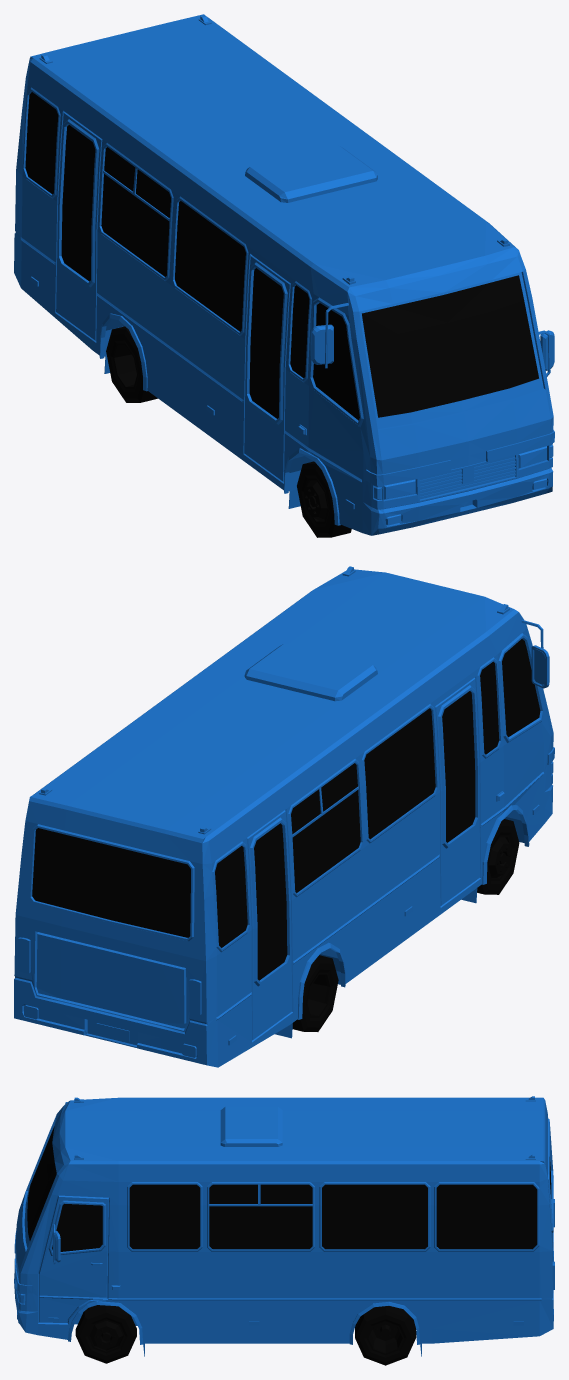
File: HALF_minibus_3.fbx
3 views of the same model, one above another, from view 1: azimuth 30°, elevation 25°; view 2: azimuth 150°, elevation 25°; view 3: azimuth 270°, elevation 25° (orthographic). The views are drawn at different scales.
Parts seen in each view (by area): view 1: Cube_3, Cylinder_2, Cylinder_5; view 2: Cube_3, Cylinder_5, Cylinder_2; view 3: Cube_3, Cylinder_5, Cylinder_1.
Boxes of the visible parts, <box> form: Cube_3: <box>14,14,554,535</box>; Cylinder_2: <box>297,461,351,537</box>; Cylinder_5: <box>106,326,157,402</box>; Cube_3: <box>14,566,554,1067</box>; Cylinder_5: <box>292,955,338,1031</box>; Cylinder_2: <box>477,819,519,894</box>; Cube_3: <box>14,1096,554,1356</box>; Cylinder_5: <box>355,1306,416,1365</box>; Cylinder_1: <box>75,1305,136,1363</box>.
Bounding box in the file's own units: 268 × 304 × 717.
